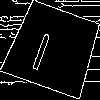I: (28, 23, 57, 72)
